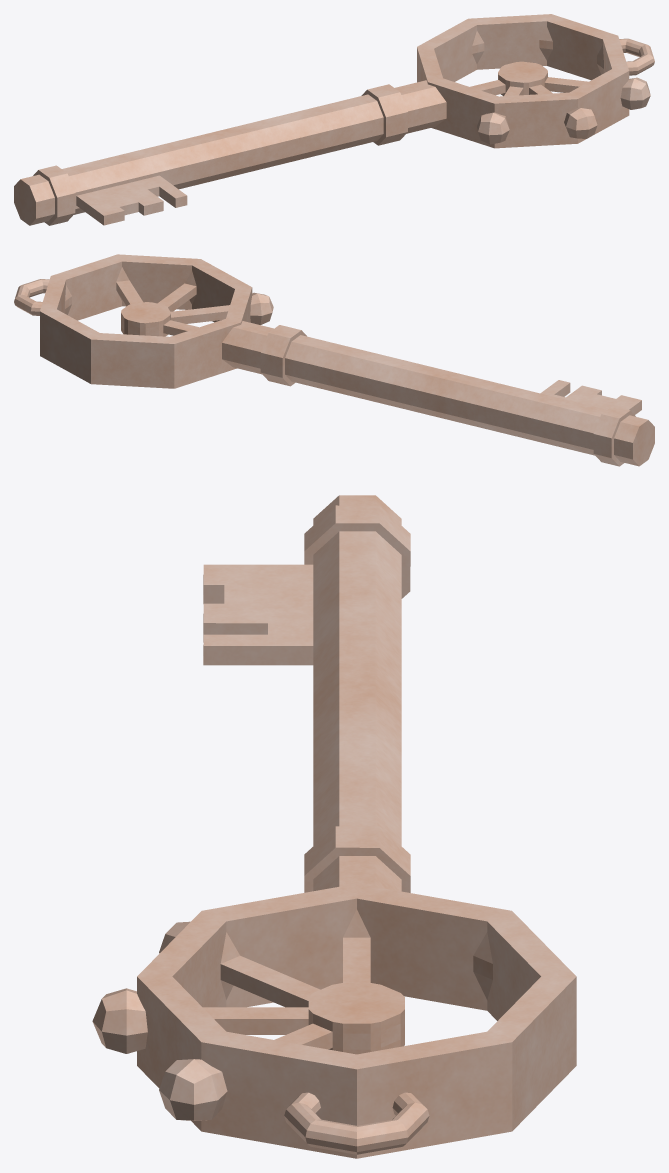
Rendered from Key4.fbx.
The picture shows the model from 3 angles, top to bottom: view 1: azimuth 30°, elevation 25°; view 2: azimuth 150°, elevation 25°; view 3: azimuth 270°, elevation 25°; orthographic projection. The views are drawn at different scales.
Visible parts, largest first — view 1: Key4; view 2: Key4; view 3: Key4.
Boxes of the visible parts, bbox=[...] form: Key4: bbox=[14, 14, 654, 225]; Key4: bbox=[14, 254, 654, 466]; Key4: bbox=[92, 495, 576, 1158].
Bounding box in the file's own units: 63.25 × 4.65 × 21.17.
